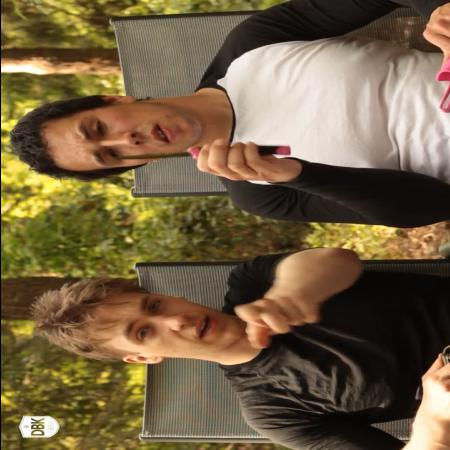long weapon: (96, 138, 296, 174)
